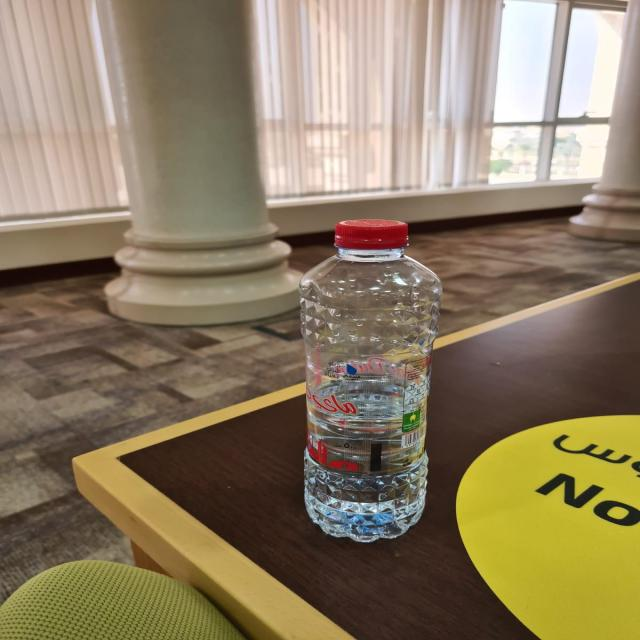bottle: (299, 220, 432, 540)
